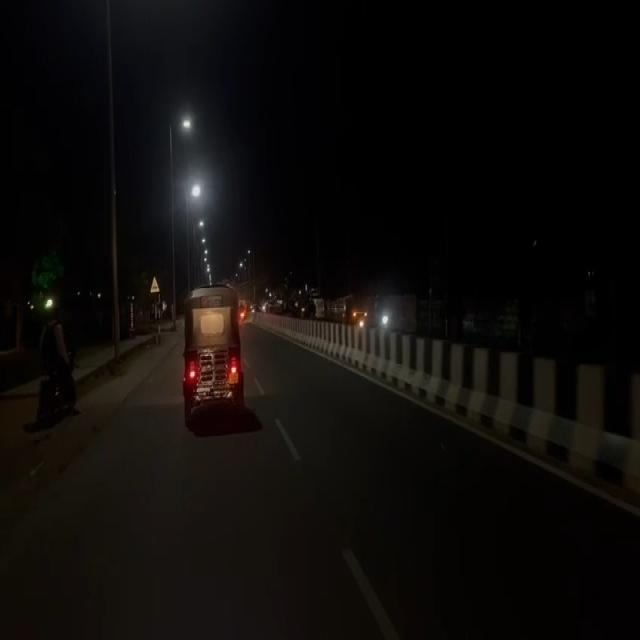bien_nguy_hiem: (149, 272, 161, 296)
